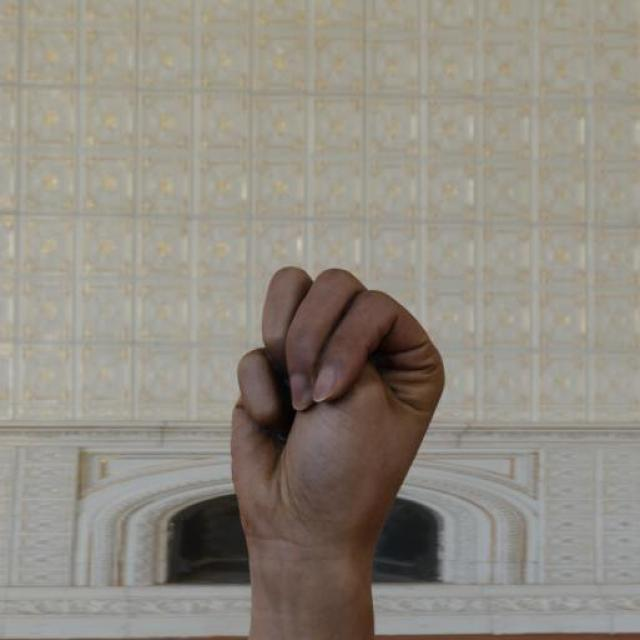M: (228, 265, 451, 559)
